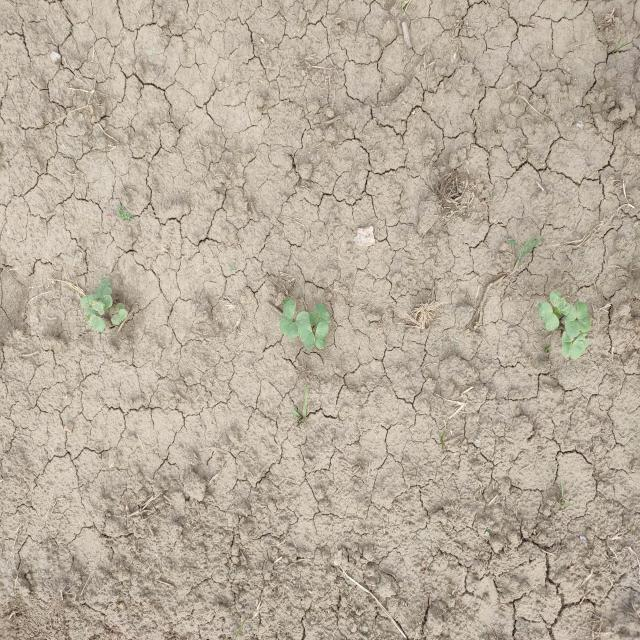seedling_s2: (287, 311, 310, 339), (537, 302, 559, 331), (298, 319, 315, 351), (280, 299, 295, 334), (570, 333, 589, 360), (564, 305, 580, 337), (549, 291, 570, 315), (577, 302, 591, 333), (86, 313, 105, 333), (315, 321, 328, 349), (314, 303, 330, 325), (562, 331, 574, 357), (111, 309, 128, 324), (98, 295, 113, 311), (89, 301, 106, 315), (94, 287, 112, 299), (80, 295, 98, 307), (110, 303, 125, 314), (309, 313, 320, 328), (84, 304, 96, 315), (100, 278, 110, 289)
